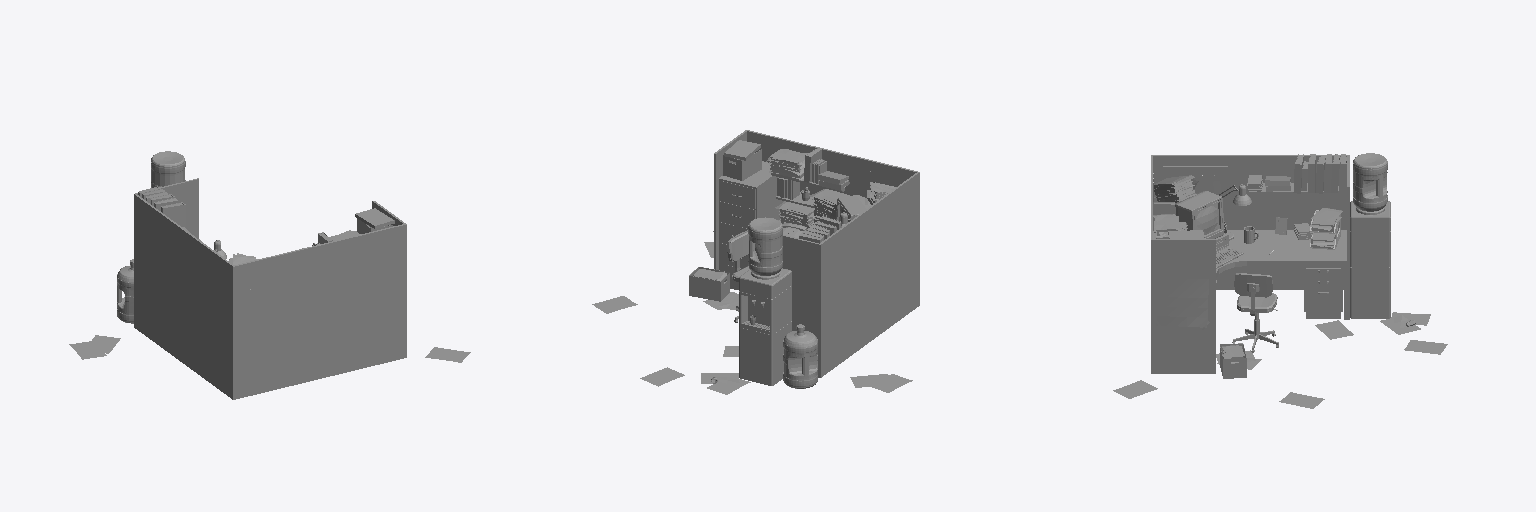
The model's file is SceneFinal.obj.
3 views of the same model, side by side, from view 1: azimuth 30°, elevation 25°; view 2: azimuth 150°, elevation 25°; view 3: azimuth 270°, elevation 25° (orthographic).
Visible parts, largest first — view 1: Walls_Cube.139, BigBottle02_Cylinder.005, BigBottle01_Cylinder.015; view 2: Walls_Cube.139, WaterCooler_Cube:246_Cube:249, FileStorage_Cube.143, BigBottle01_Cylinder.015, BigBottle02_Cylinder.005, PaperStack.003_Cube.024, Box01_Cube.224, Box02_Cube.226, Stool_Cube.133, PaperStack_Cube.020, PaperStack.002_Cube.023, Monitor_Cylinder:021_Cylinder:043; view 3: Walls_Cube.139, WaterCooler_Cube:246_Cube:249, BigWallPaper_Cube.223, Table_Plane.024, Drawer_Cube, Stool_Cube.133, BigBottle02_Cylinder.005, Monitor_Cylinder:021_Cylinder:043, PinBoard_Cube.016, PaperStack.004_Cube.026, PaperStack.006_Cube.028, Box01_Cube.224 (+1 smaller).
Boxes of the visible parts, x1,y1,x2,y2 form: Walls_Cube.139: [134, 178, 406, 399]; BigBottle02_Cylinder.005: [151, 151, 185, 187]; BigBottle01_Cylinder.015: [117, 259, 133, 323]; Walls_Cube.139: [714, 130, 919, 377]; WaterCooler_Cube:246_Cube:249: [739, 268, 791, 385]; FileStorage_Cube.143: [719, 161, 783, 289]; BigBottle01_Cylinder.015: [783, 324, 817, 388]; BigBottle02_Cylinder.005: [748, 217, 782, 275]; PaperStack.003_Cube.024: [766, 149, 807, 180]; Box01_Cube.224: [689, 267, 729, 301]; Box02_Cube.226: [723, 149, 761, 180]; Stool_Cube.133: [727, 230, 754, 322]; PaperStack_Cube.020: [775, 201, 814, 228]; PaperStack.002_Cube.023: [809, 189, 849, 219]; Monitor_Cylinder:021_Cylinder:043: [836, 195, 869, 221]; Walls_Cube.139: [1151, 155, 1349, 373]; WaterCooler_Cube:246_Cube:249: [1350, 201, 1390, 318]; BigWallPaper_Cube.223: [1155, 257, 1211, 329]; Table_Plane.024: [1216, 230, 1346, 319]; Drawer_Cube: [1304, 266, 1342, 318]; Stool_Cube.133: [1232, 273, 1278, 352]; BigBottle02_Cylinder.005: [1353, 153, 1387, 211]; Monitor_Cylinder:021_Cylinder:043: [1175, 191, 1224, 238]; PinBoard_Cube.016: [1163, 166, 1244, 216]; PaperStack.004_Cube.026: [1310, 208, 1342, 248]; PaperStack.006_Cube.028: [1154, 175, 1196, 202]; Box01_Cube.224: [1220, 343, 1246, 378].
Bounding box in the file's own units: 18.84 × 8.52 × 17.19.